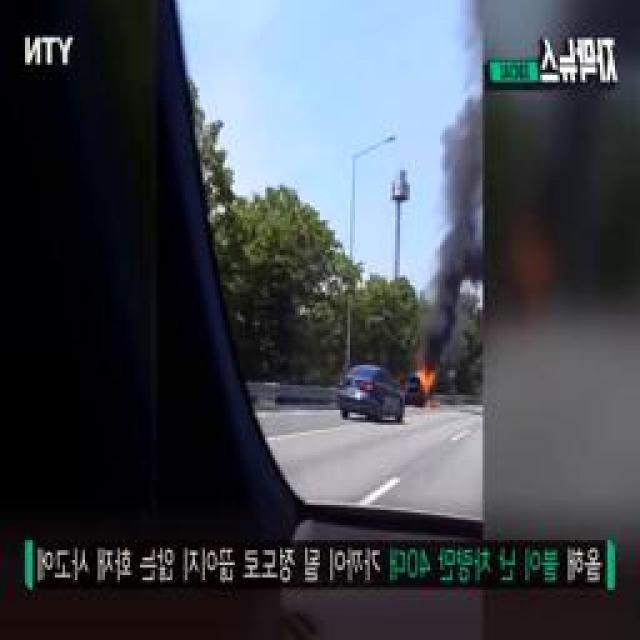Fire: (414, 375, 439, 408)
